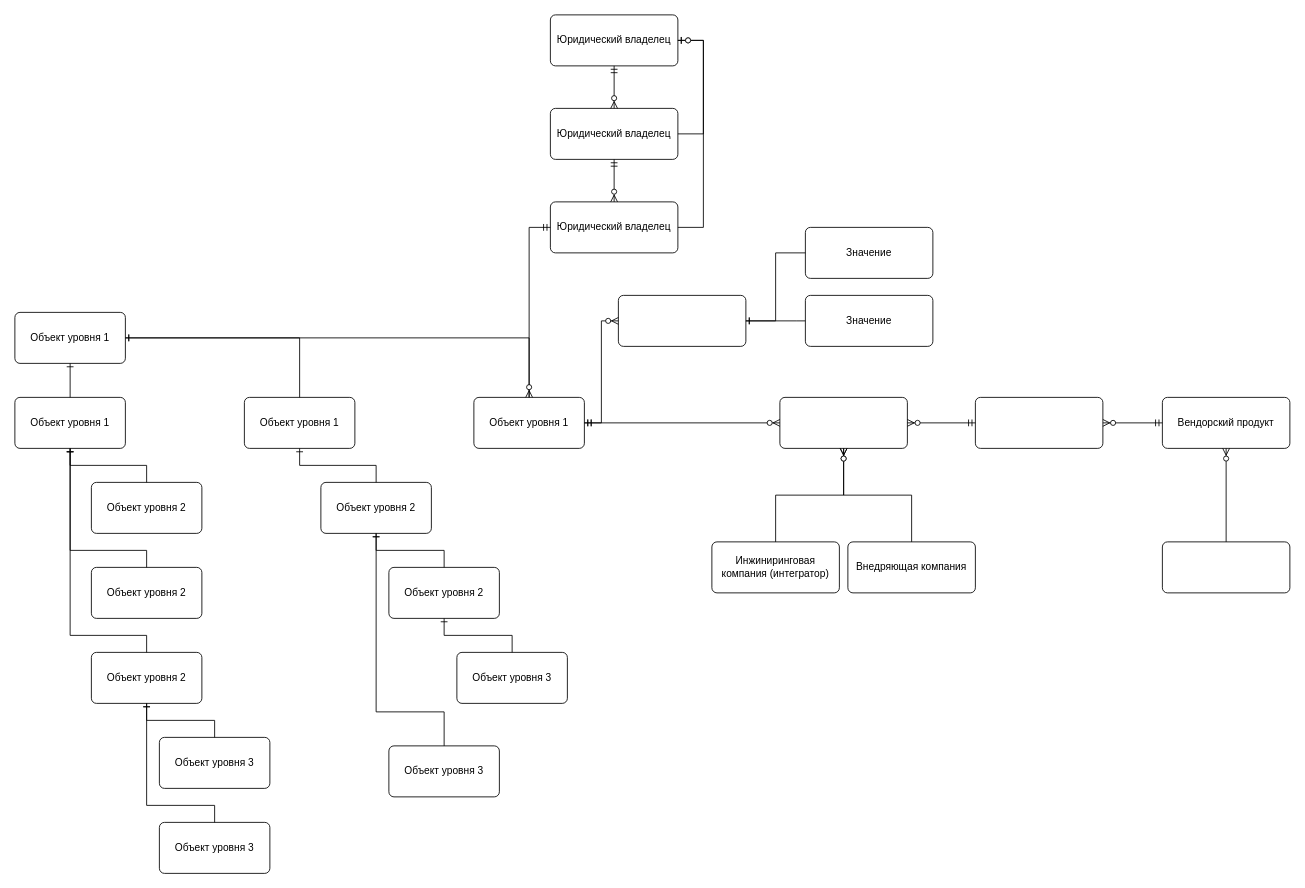
This 1305x888 diagram has some shape labels left out. The centre of each missing label's shape, as x and y in pixels:
Вендор: point (1226, 567)
Связь система-объект: point (843, 422)
Система автоматизации: point (1039, 422)
Характеристика: point (682, 320)
